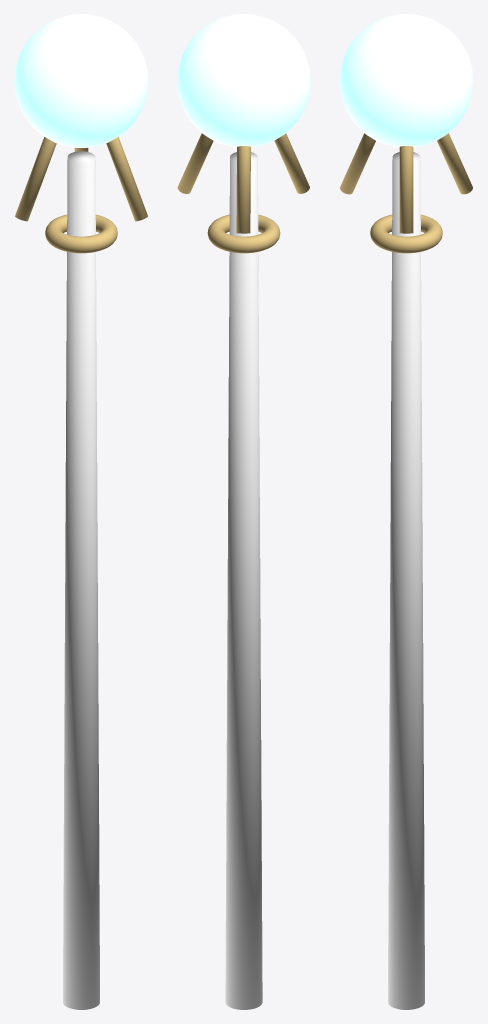
Rendered from asa_2.glb.
3 views of the same model, side by side, from view 1: azimuth 90°, elevation 25°; view 2: azimuth 150°, elevation 25°; view 3: azimuth 270°, elevation 25° (orthographic).
Parts seen in each view (by area): view 1: Cone, Sphere, Torus, Cone.002, Cone.003; view 2: Cone, Sphere, Torus, Cone.002, Cone.001, Cone.003; view 3: Cone, Sphere, Torus, Cone.001, Cone.002, Cone.003.
Part boxes in pixels (x1,y1,x2,y2): Cone: [63, 151, 99, 1009]; Sphere: [14, 14, 148, 147]; Torus: [45, 214, 117, 253]; Cone.002: [15, 137, 56, 221]; Cone.003: [106, 137, 147, 221]; Cone: [225, 152, 262, 1009]; Sphere: [177, 14, 310, 147]; Torus: [207, 214, 280, 253]; Cone.002: [236, 146, 250, 233]; Cone.001: [177, 133, 213, 193]; Cone.003: [274, 133, 309, 193]; Cone: [388, 152, 424, 1009]; Sphere: [339, 14, 473, 147]; Torus: [370, 214, 442, 253]; Cone.001: [399, 146, 413, 233]; Cone.002: [437, 133, 472, 194]; Cone.003: [340, 133, 375, 194].
Size of the model in its own units: 0.306 by 2.32 by 0.288.
